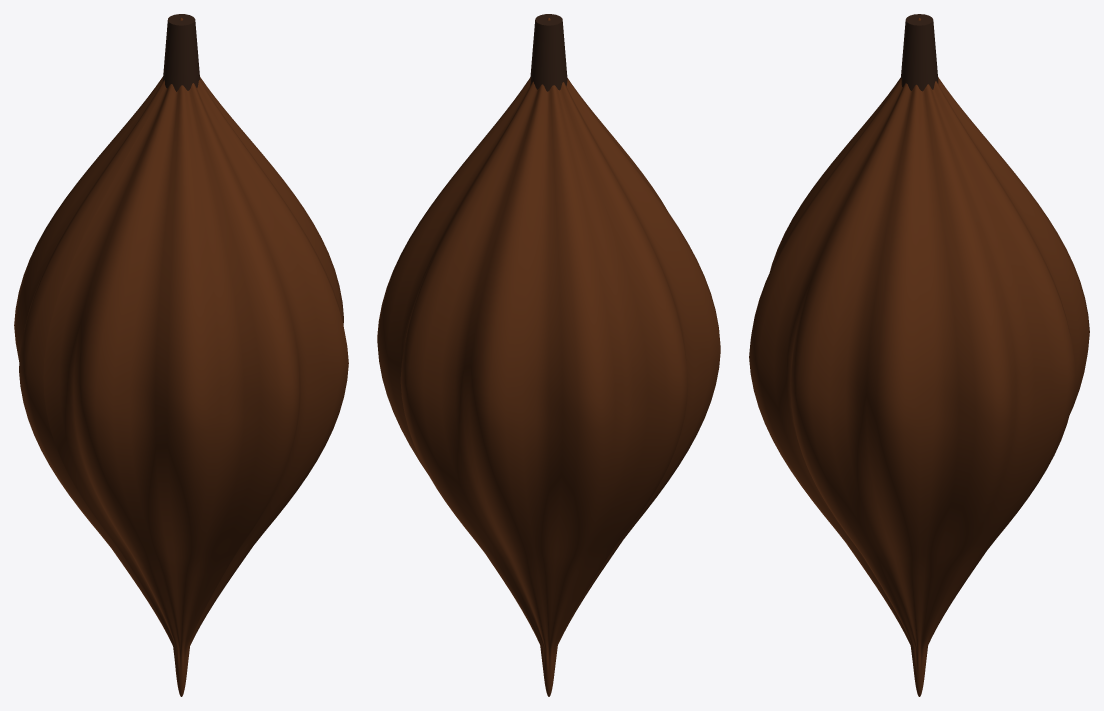
File: cacao-pod.glb
The picture shows the model from 3 angles, left to right: view 1: azimuth 30°, elevation 25°; view 2: azimuth 150°, elevation 25°; view 3: azimuth 270°, elevation 25°; orthographic projection.
Parts seen in each view (by area): view 1: CacaoPodBody, CacaoPodStem; view 2: CacaoPodBody, CacaoPodStem; view 3: CacaoPodBody, CacaoPodStem.
Part boxes in pixels (x1,y1,x2,y2): CacaoPodBody: (14, 17, 348, 696); CacaoPodStem: (162, 14, 200, 91); CacaoPodBody: (377, 18, 720, 696); CacaoPodStem: (530, 14, 567, 91); CacaoPodBody: (749, 18, 1089, 696); CacaoPodStem: (900, 14, 938, 91).
Bounding box in the file's own units: 2.95 × 6.49 × 2.95.
